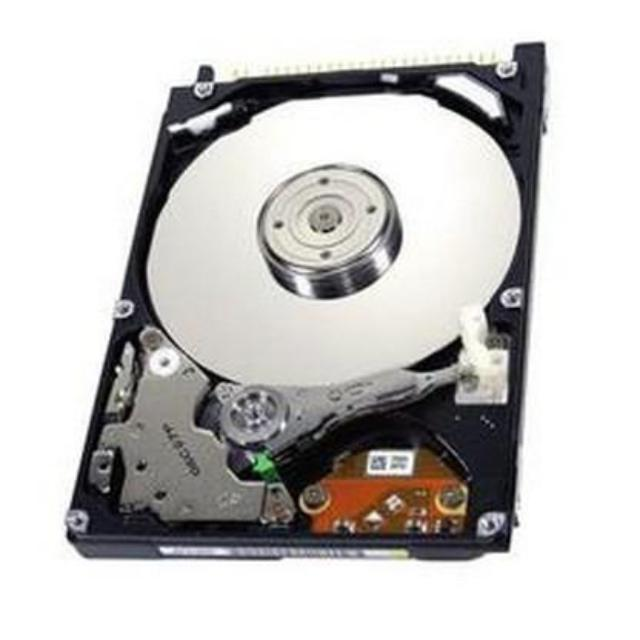DISK: (65, 39, 552, 567)
